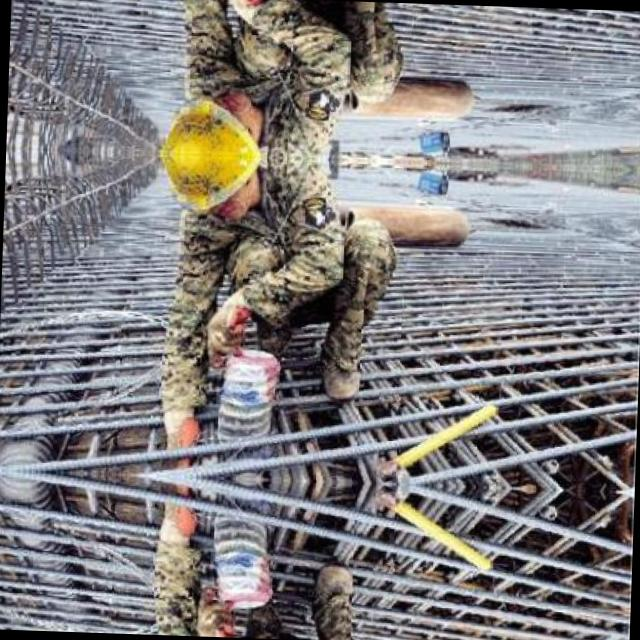helmet: (148, 80, 281, 156), (146, 153, 278, 229)
